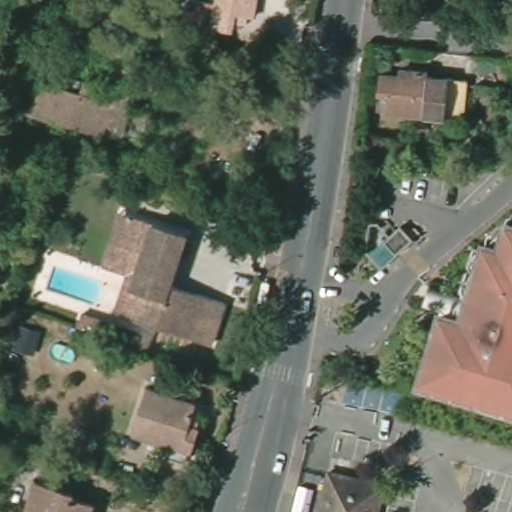pool: (44, 264, 107, 308), (45, 339, 78, 365)
